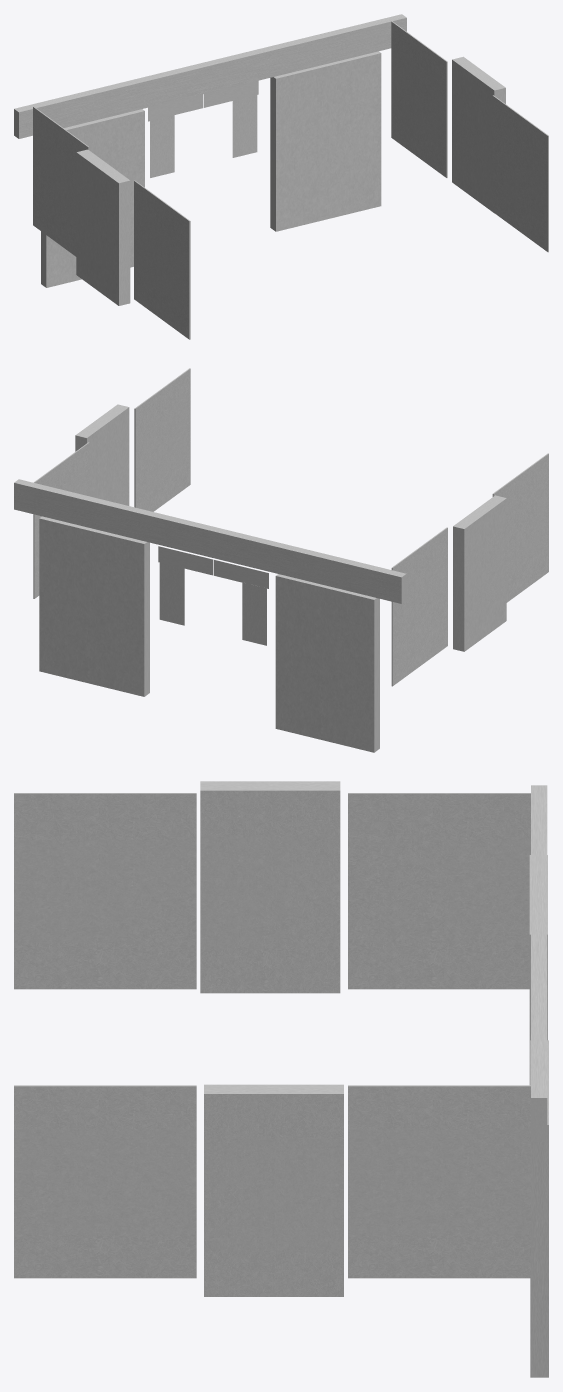
Rendered from result_wall.obj.
3 views of the same model, one above another, from view 1: azimuth 30°, elevation 25°; view 2: azimuth 150°, elevation 25°; view 3: azimuth 270°, elevation 25° (orthographic). The views are drawn at different scales.
Visible parts, largest first — view 1: 立方体.225; view 2: 立方体.225; view 3: 立方体.225.
Boxes of the visible parts, left/top/right/bottom form: 立方体.225: left=14, top=14, right=548, bottom=339; 立方体.225: left=14, top=368, right=548, bottom=752; 立方体.225: left=14, top=781, right=548, bottom=1377.
Size of the model in its own units: 557 by 253 by 403.
Materials: 1 (1 with a texture image).
